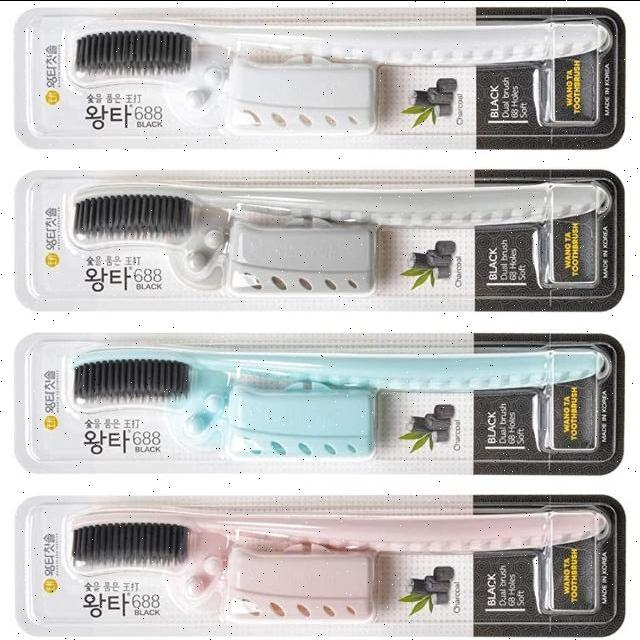toothbrush: (59, 499, 609, 577)
